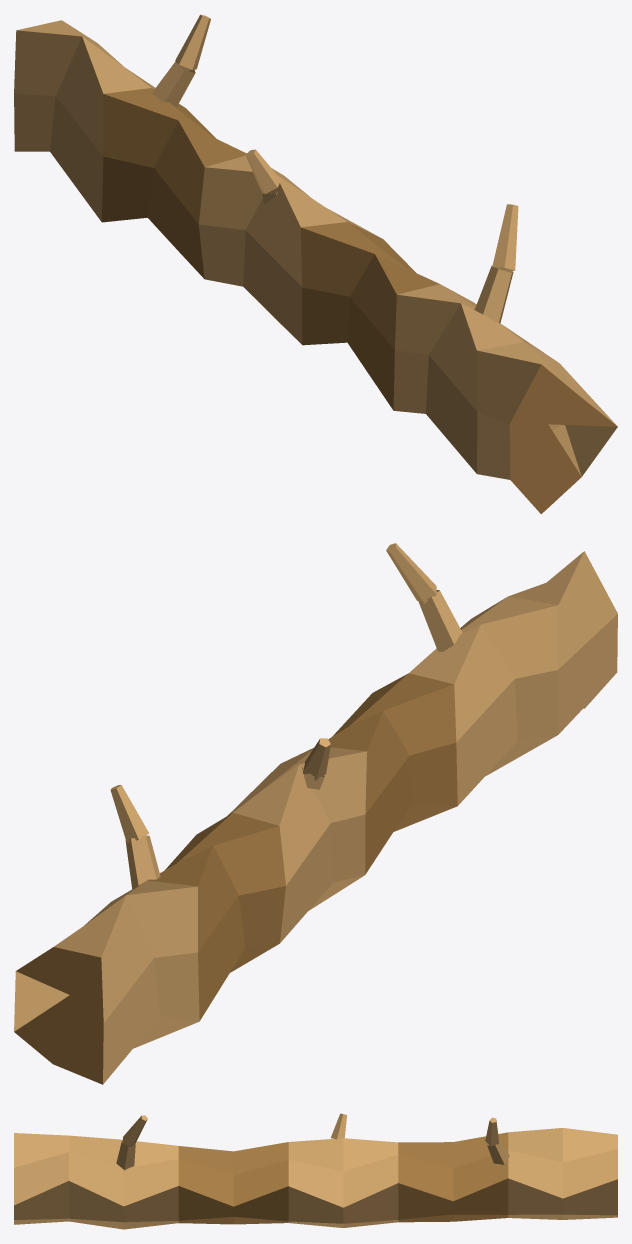
The model's file is Driftwood.fbx.
3 views of the same model, one above another, from view 1: azimuth 30°, elevation 25°; view 2: azimuth 150°, elevation 25°; view 3: azimuth 270°, elevation 25° (orthographic). The views are drawn at different scales.
Parts seen in each view (by area): view 1: Driftwood; view 2: Driftwood; view 3: Driftwood.
Boxes of the visible parts, x1,y1,x2,y2 form: Driftwood: (14, 14, 617, 514); Driftwood: (14, 543, 617, 1084); Driftwood: (14, 1113, 617, 1229).
Size of the model in its own units: 59.99 by 97.91 by 400.
